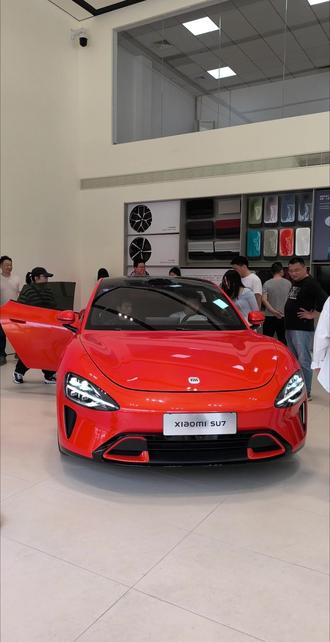su7: (44, 261, 313, 467)
